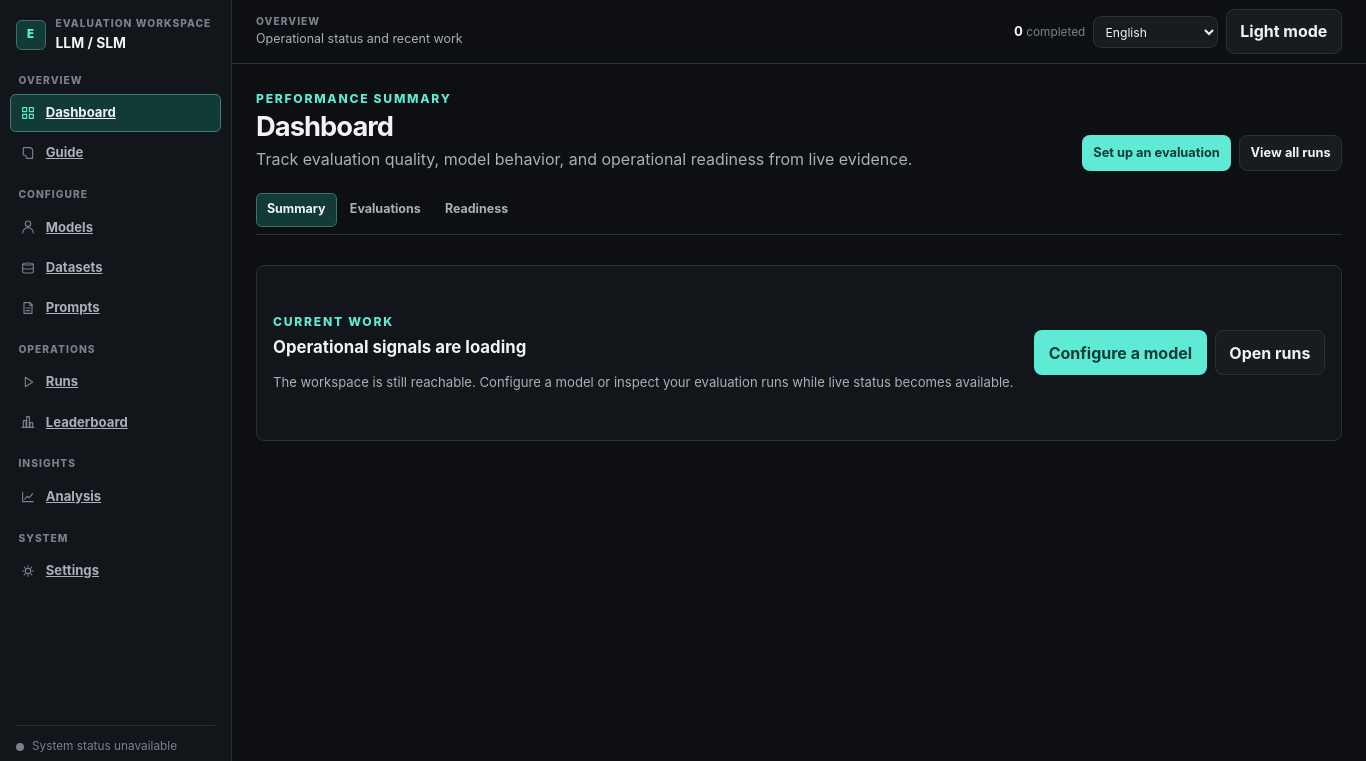
Test: dataset catalog › refreshes schema mapping when the same dataset is handed off again
Click the link "Datasets" at (61, 267), box [20, 259, 103, 276]
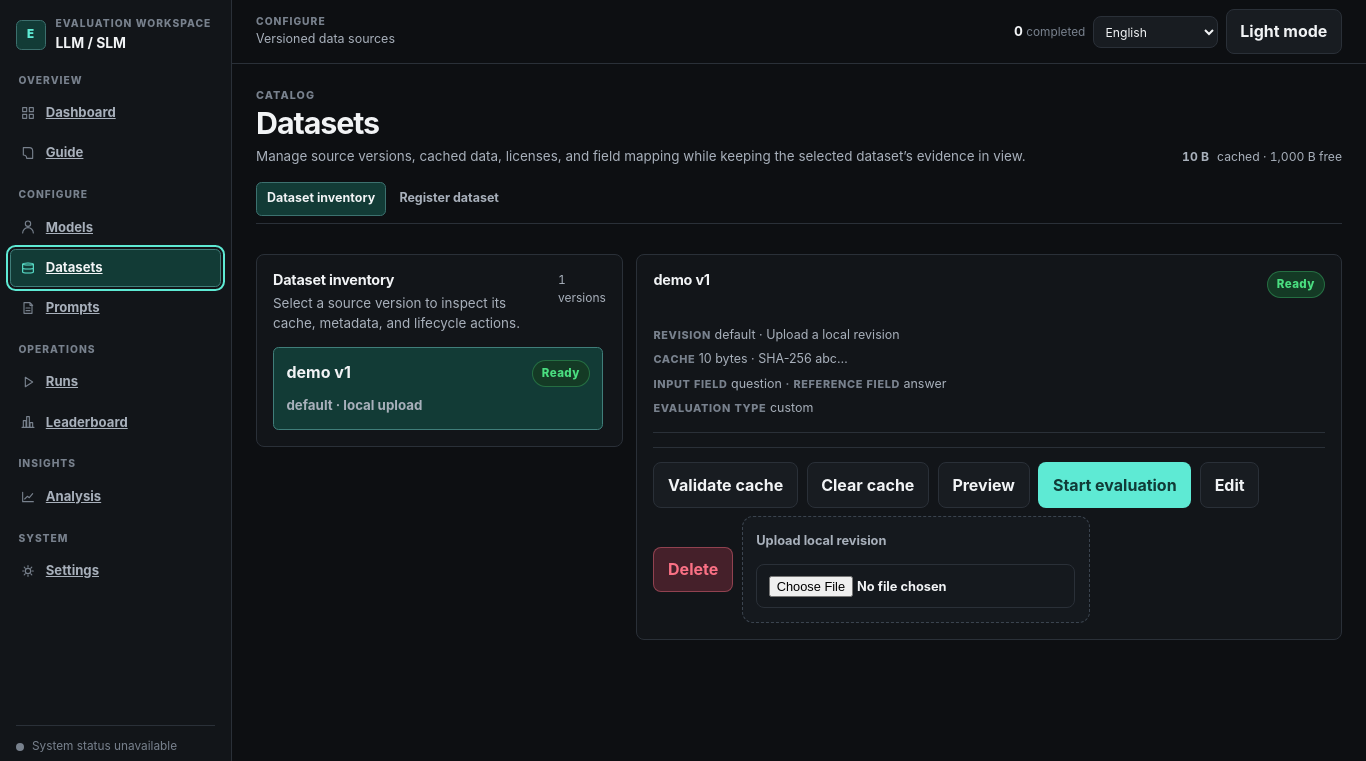
Click the link "Runs" at (49, 382), box [20, 373, 78, 390]
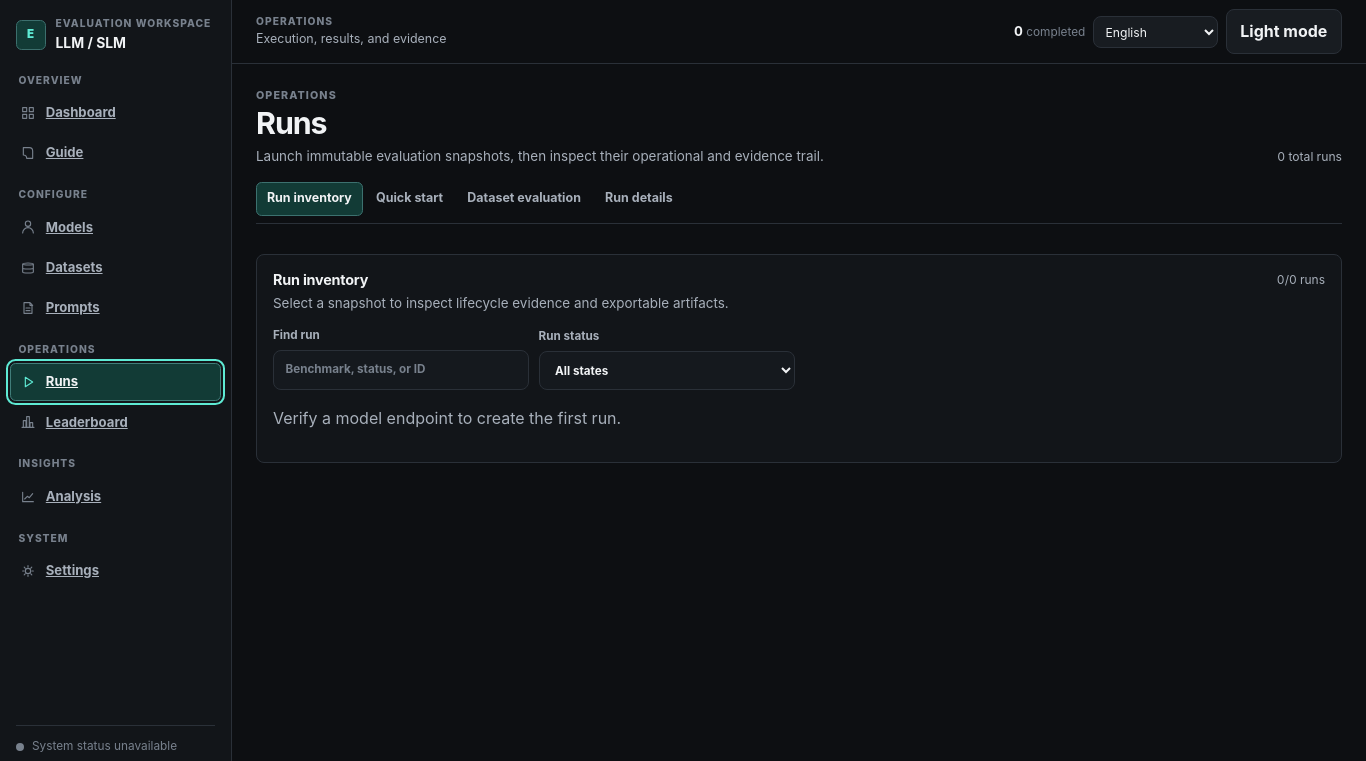
Click the tab "Dataset evaluation" at (524, 199), box [456, 182, 592, 216]
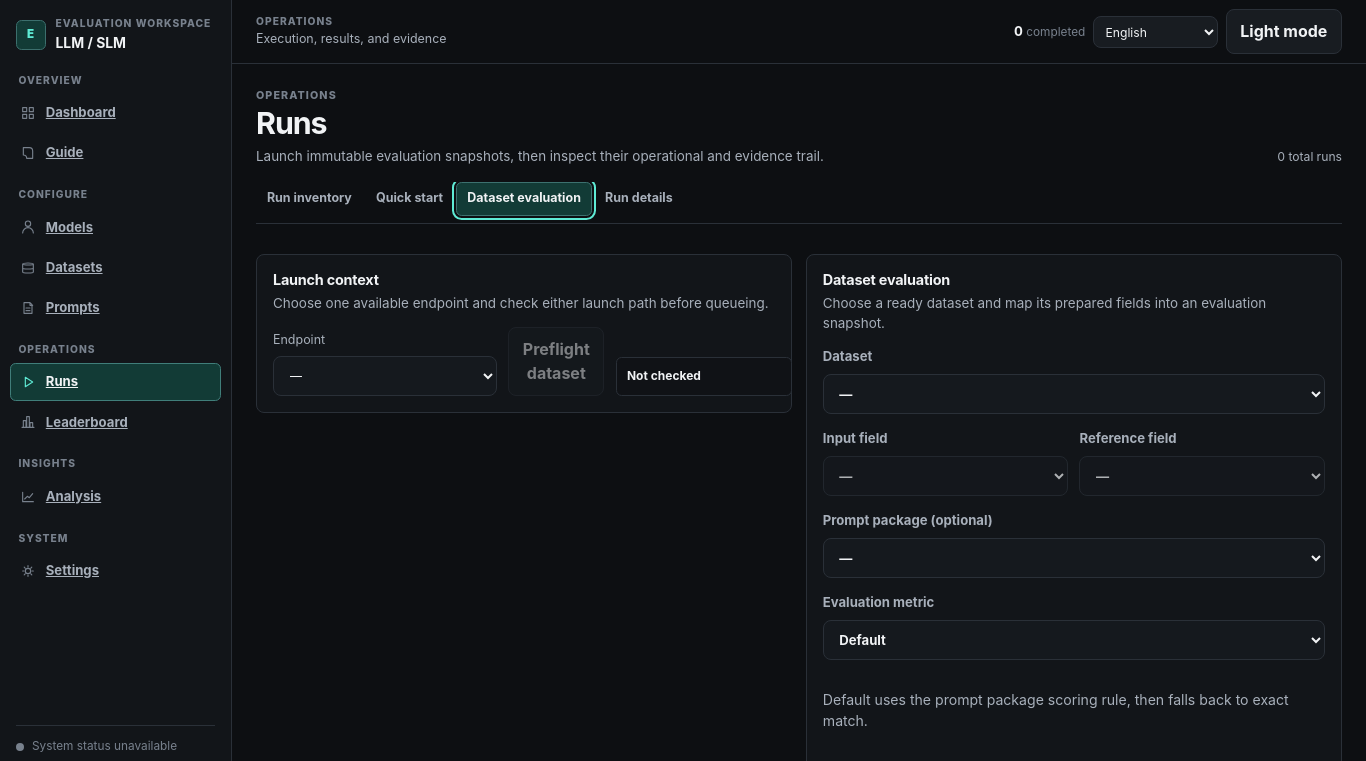
Select "demo v1" in the dropdown labelled "Dataset" at (1074, 394), box [823, 374, 1325, 414]
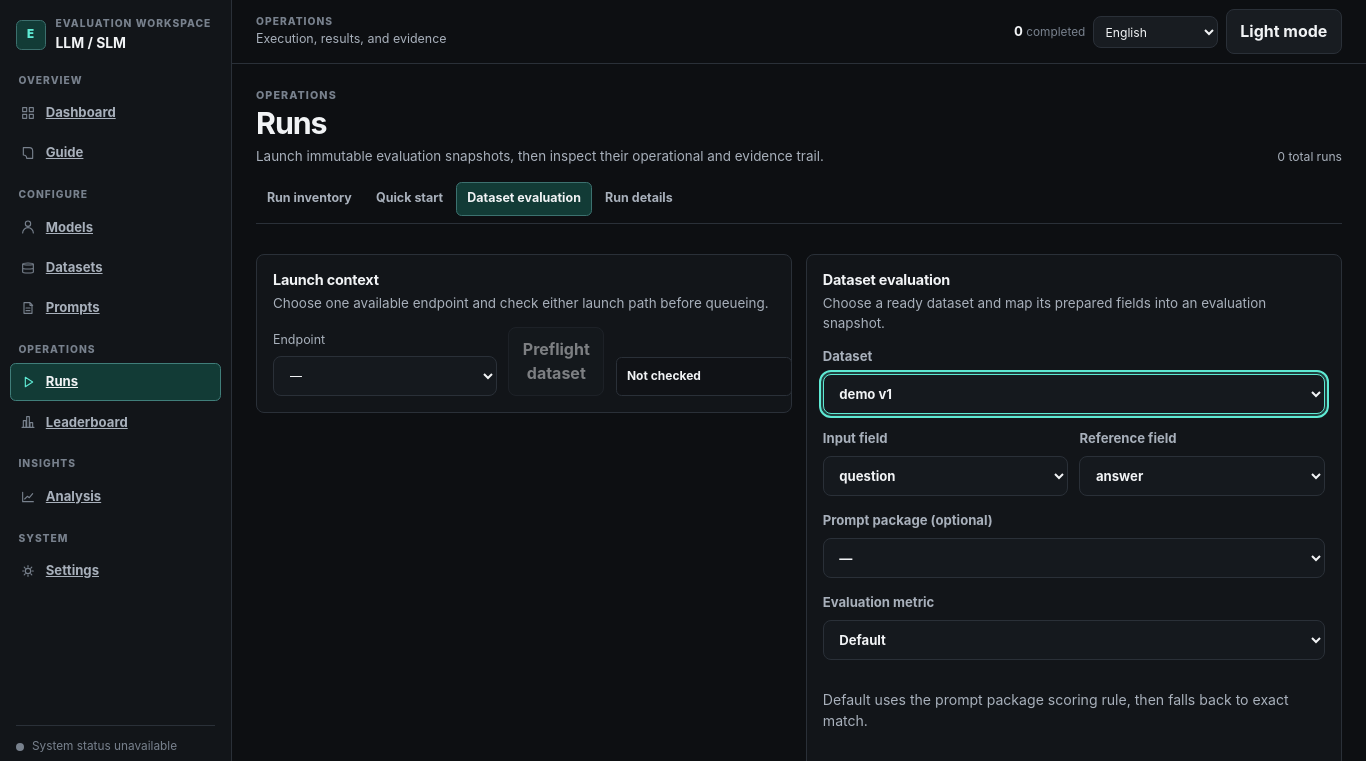
Result: the dropdown labelled "Input field" shows "question" at [823, 456, 1068, 496]
Click the link "Datasets" at (61, 267), box [20, 259, 103, 276]
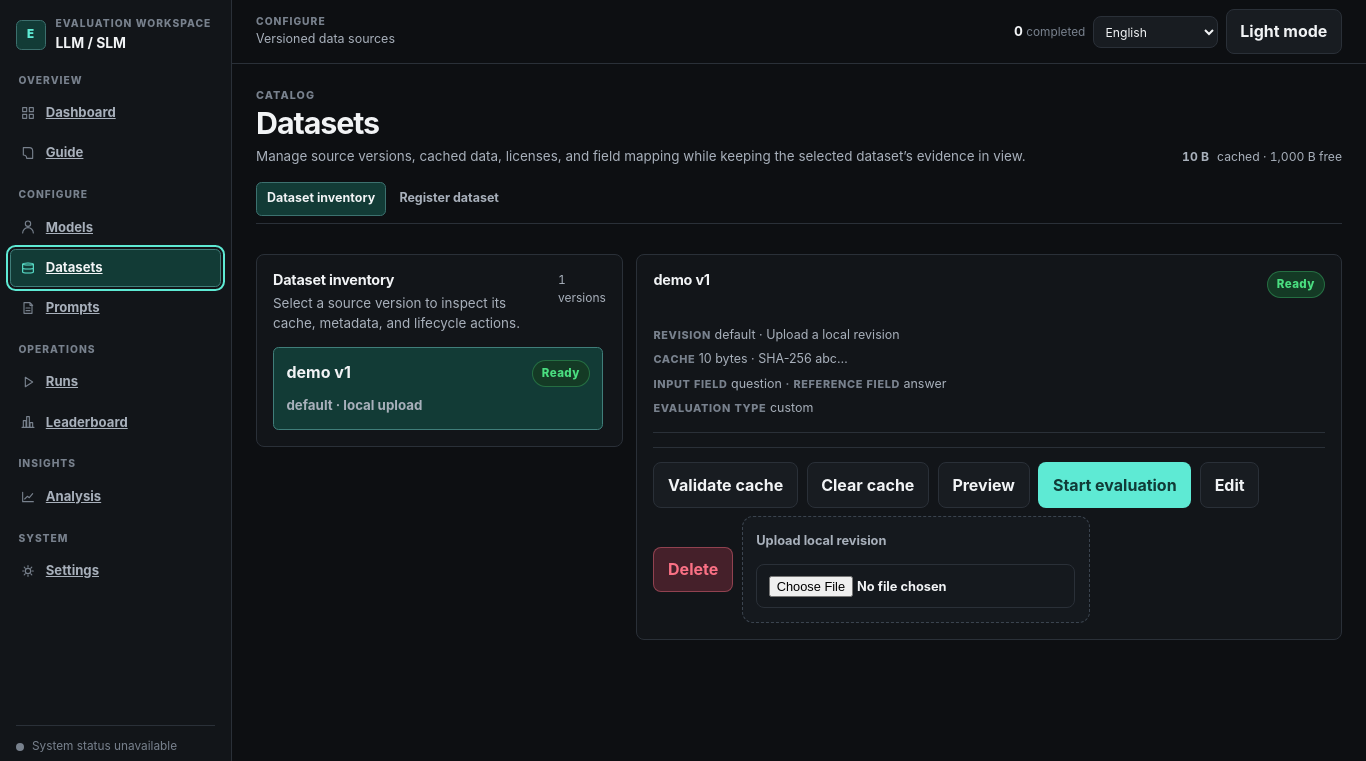
Click the button "Start evaluation" at (1115, 485), box [1038, 462, 1191, 508]
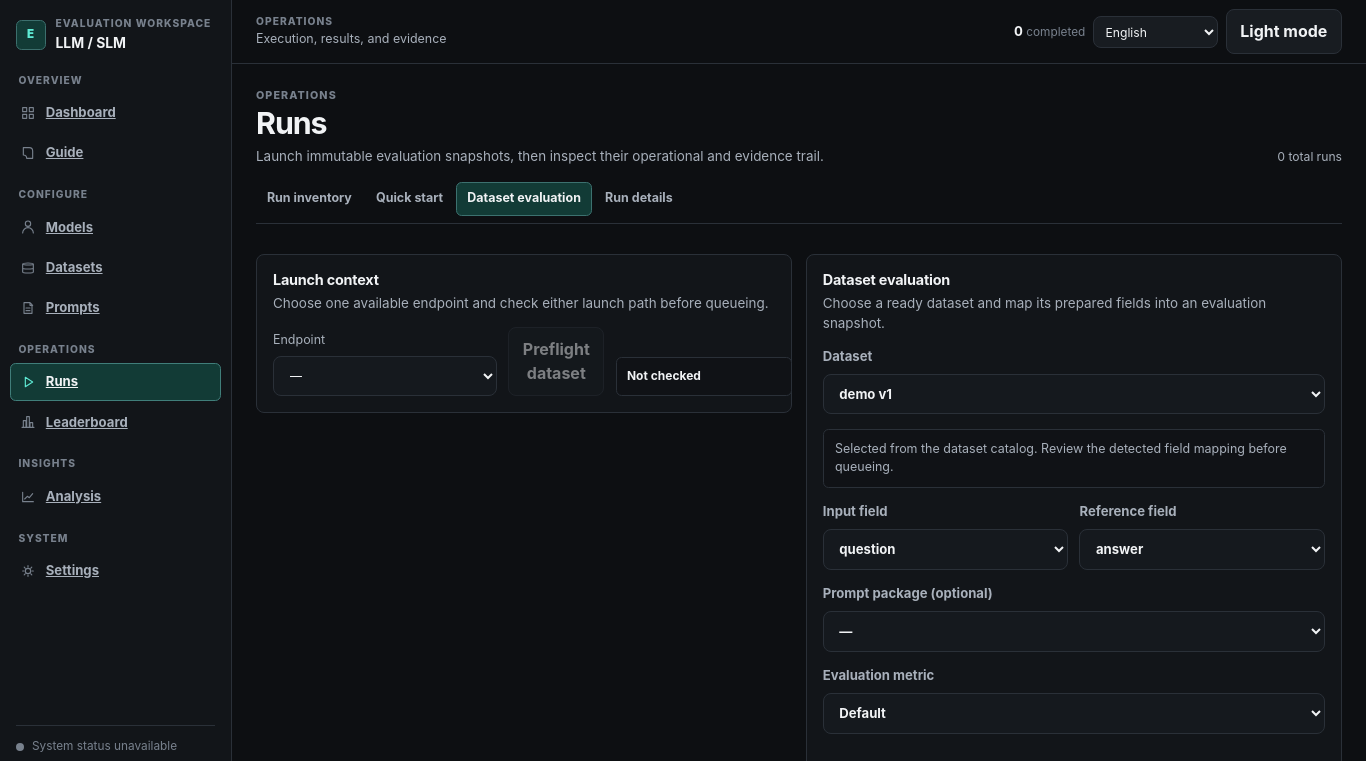
Result: the dropdown labelled "Input field" shows "question" at [823, 529, 1068, 570]
Result: the dropdown labelled "Reference field" shows "answer" at [1080, 529, 1325, 570]
